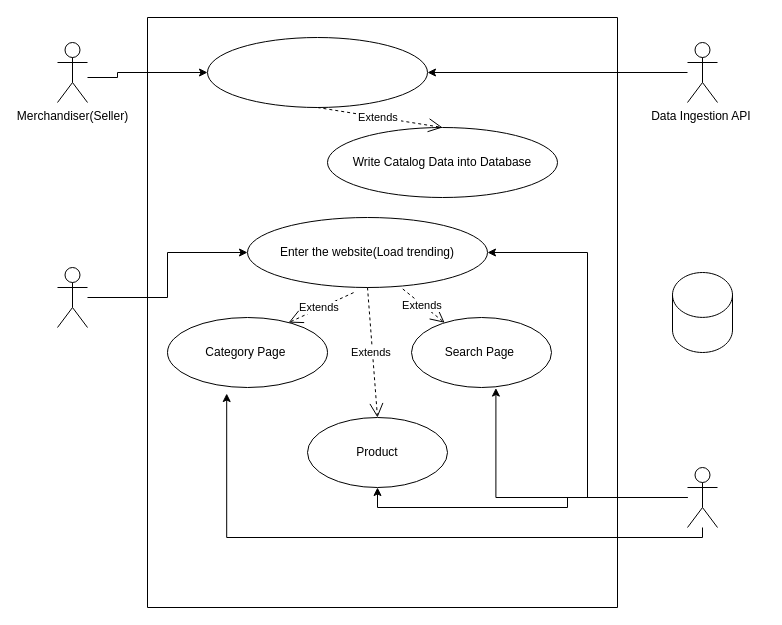
The diagram is 782 pixels wide and 625 high, and some of its shapes have lost their labels. The shapes that lost their labels are listed below. From the top down, each one's centre as x and y in pixels, then its label:
At (x=317, y=72): "Provide Catalog Data".
At (x=72, y=297): "Customer(Buyer)".
At (x=702, y=312): "Database(PostgreSQL)".
At (x=702, y=497): "Backend API".
